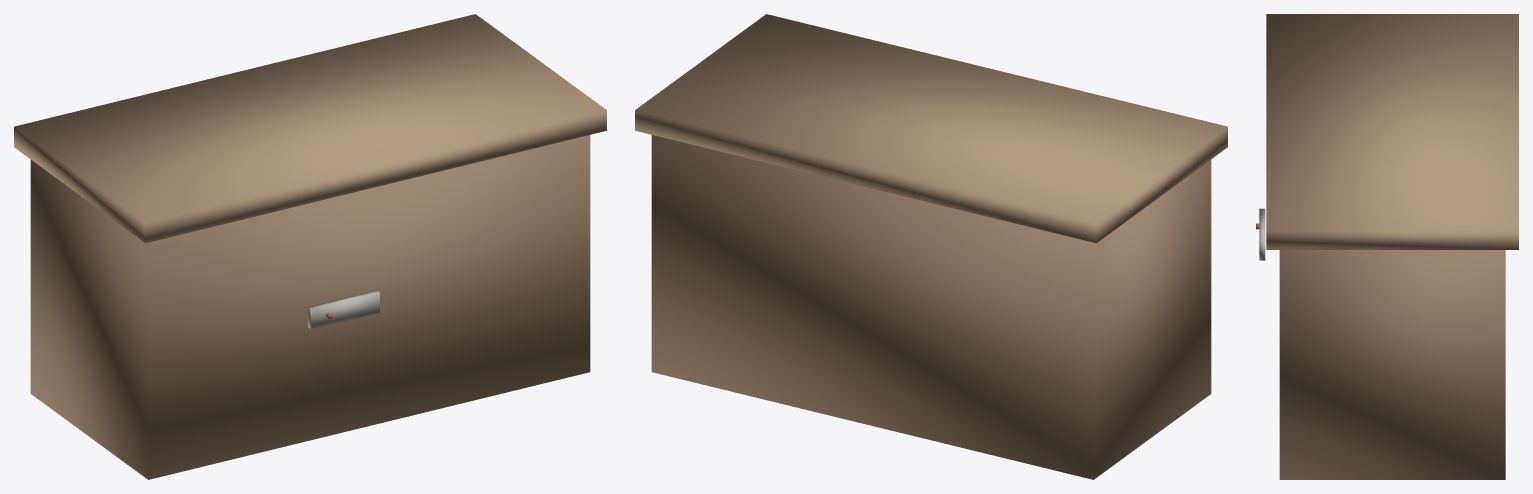
Rendered from bagging_stand__deep.glb.
The picture shows the model from 3 angles, left to right: view 1: azimuth 30°, elevation 25°; view 2: azimuth 150°, elevation 25°; view 3: azimuth 270°, elevation 25°; orthographic projection. The views are drawn at different scales.
Parts seen in each view (by area): view 1: world; view 2: world; view 3: world.
Boxes of the visible parts, x1,y1,x2,y2 form: world: (14, 14, 606, 479); world: (635, 14, 1227, 479); world: (1256, 14, 1518, 479).
Bounding box in the file's own units: 1.88 × 1.03 × 0.965.
